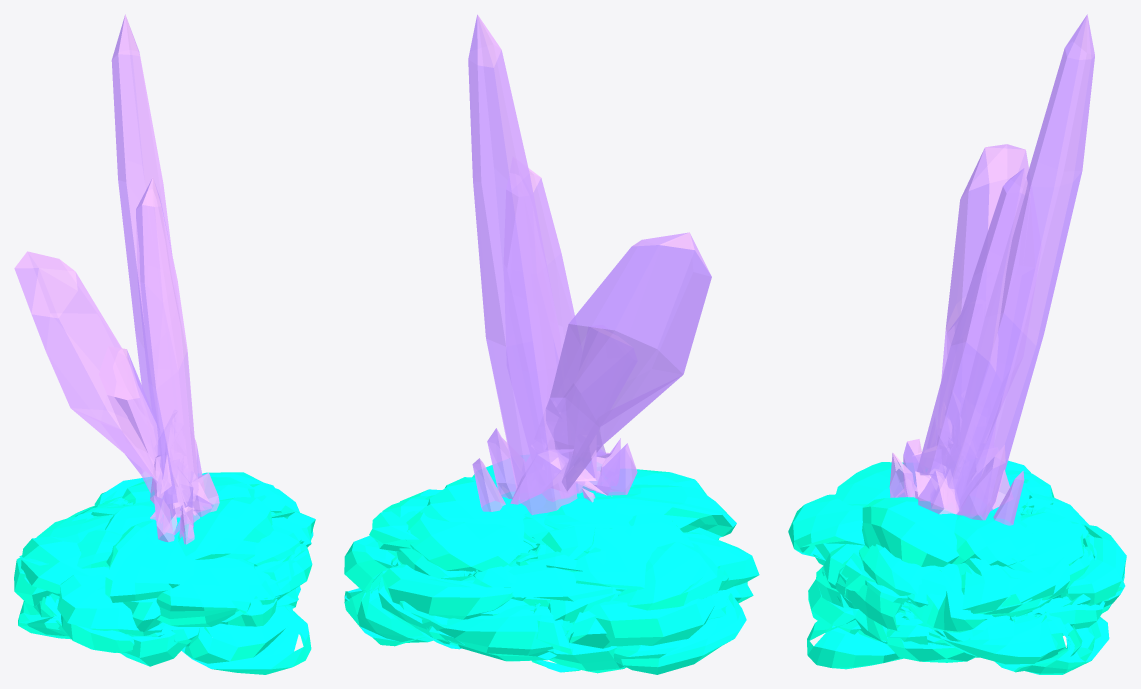
The model's file is XRYSTAL19.gltf.
3 views of the same model, side by side, from view 1: azimuth 30°, elevation 25°; view 2: azimuth 150°, elevation 25°; view 3: azimuth 270°, elevation 25° (orthographic). The views are drawn at different scales.
Visible parts, largest first — view 1: Cube.001, Circle.002_Circle.003; view 2: Cube.001, Circle.002_Circle.003; view 3: Cube.001, Circle.002_Circle.003.
Part boxes in pixels (x1=…): Cube.001: x1=14, y1=472, x2=315, y2=674; Circle.002_Circle.003: x1=14, y1=14, x2=219, y2=544; Cube.001: x1=344, y1=465, x2=759, y2=674; Circle.002_Circle.003: x1=468, y1=14, x2=711, y2=515; Cube.001: x1=788, y1=460, x2=1126, y2=674; Circle.002_Circle.003: x1=889, y1=14, x2=1094, y2=525.
Bounding box in the file's own units: 2.19 × 3.9 × 1.9.
